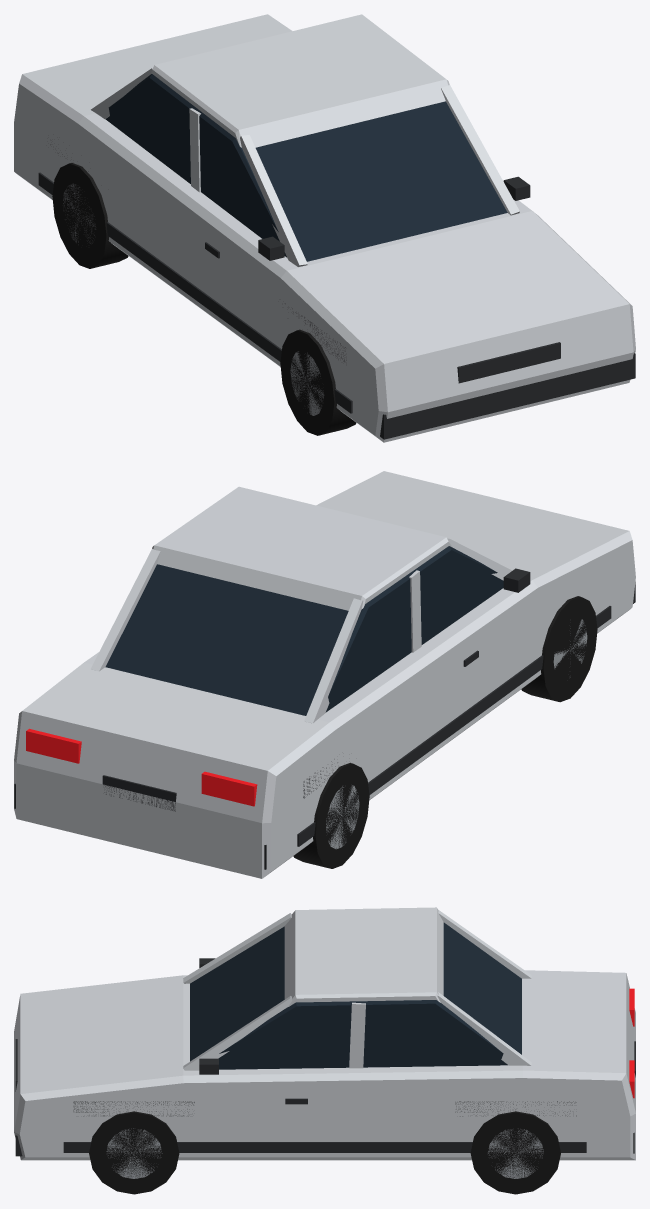
File: sedan.fbx
The picture shows the model from 3 angles, top to bottom: view 1: azimuth 30°, elevation 25°; view 2: azimuth 150°, elevation 25°; view 3: azimuth 270°, elevation 25°; orthographic projection. The views are drawn at different scales.
Visible parts, largest first — view 1: sedan_paint, sedan_glass, sedan_trim, sedan_tyre, sedan_rim; view 2: sedan_paint, sedan_glass, sedan_tyre, sedan_trim, sedan_taillight, sedan_rim; view 3: sedan_paint, sedan_glass, sedan_tyre, sedan_trim, sedan_rim.
Boxes of the visible parts, <box> form: sedan_paint: <box>14,14,635,442</box>; sedan_glass: <box>105,74,507,261</box>; sedan_trim: <box>38,144,635,439</box>; sedan_tyre: <box>52,163,356,435</box>; sedan_rim: <box>63,183,324,415</box>; sedan_paint: <box>14,471,635,878</box>; sedan_glass: <box>105,546,503,715</box>; sedan_tyre: <box>293,596,597,868</box>; sedan_trim: <box>14,568,635,869</box>; sedan_taillight: <box>26,728,257,806</box>; sedan_rim: <box>326,619,587,849</box>; sedan_paint: <box>14,907,635,1160</box>; sedan_glass: <box>190,922,521,1069</box>; sedan_tyre: <box>89,1111,560,1194</box>; sedan_trim: <box>15,958,635,1156</box>; sedan_rim: <box>106,1128,543,1178</box>.
Size of the model in its own units: 1.8 by 1.49 by 4.4.
